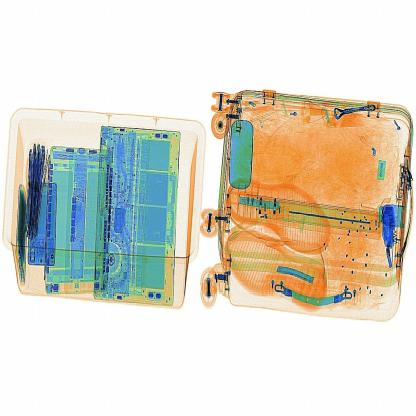scissors: (376, 197, 410, 263)
